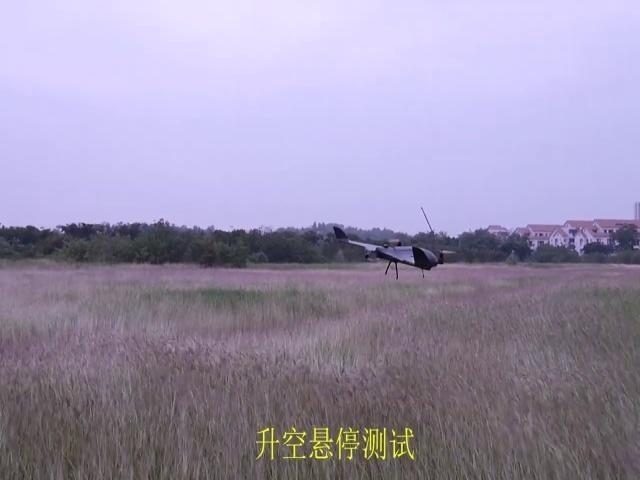Airplane: (334, 226, 456, 279)
